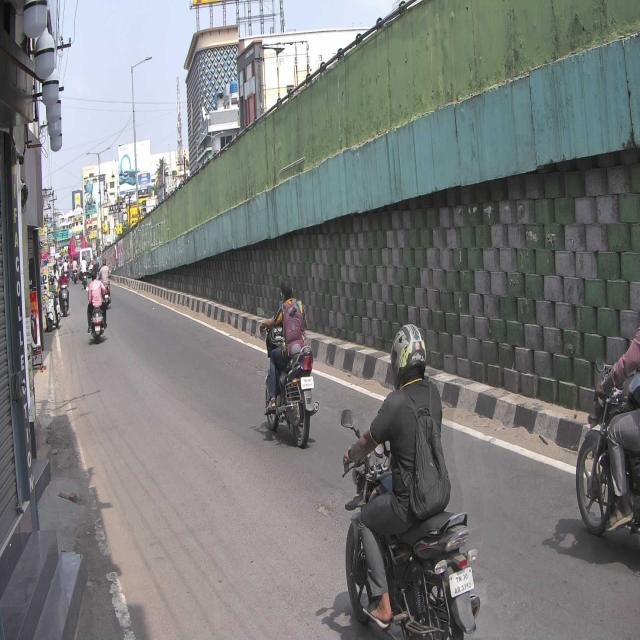single_rider: (339, 319, 480, 640), (256, 276, 318, 448)
